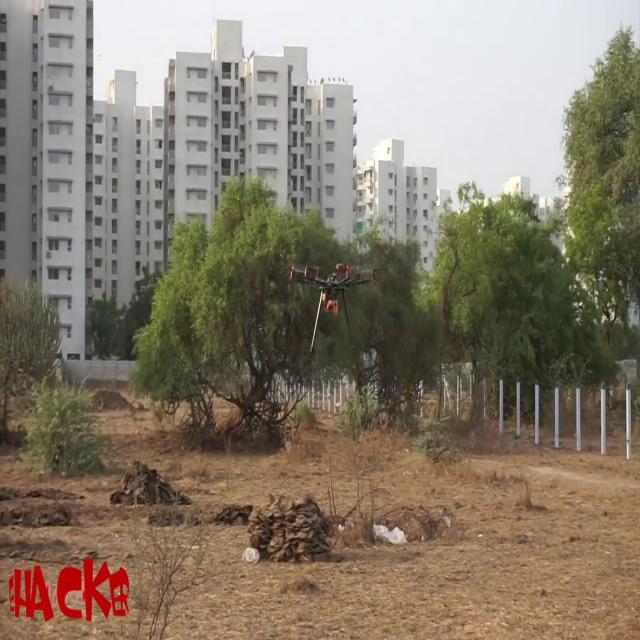drone: (286, 246, 379, 342)
